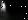person: (2, 3, 7, 13)
